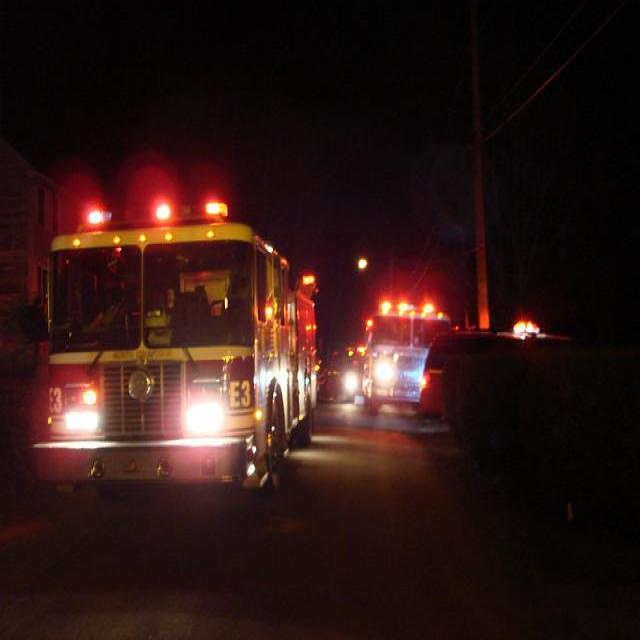other: (376, 286, 449, 322), (177, 396, 228, 441), (58, 386, 103, 432), (506, 312, 550, 342), (339, 358, 366, 406), (148, 188, 180, 226), (74, 198, 110, 230), (370, 350, 395, 386), (354, 245, 369, 272)
